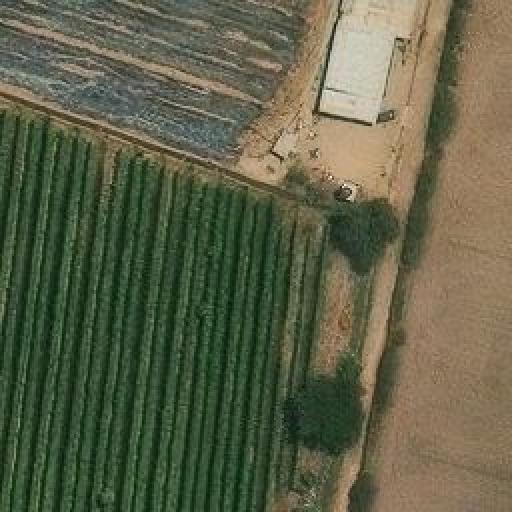manzanas: (305, 0, 425, 133)
